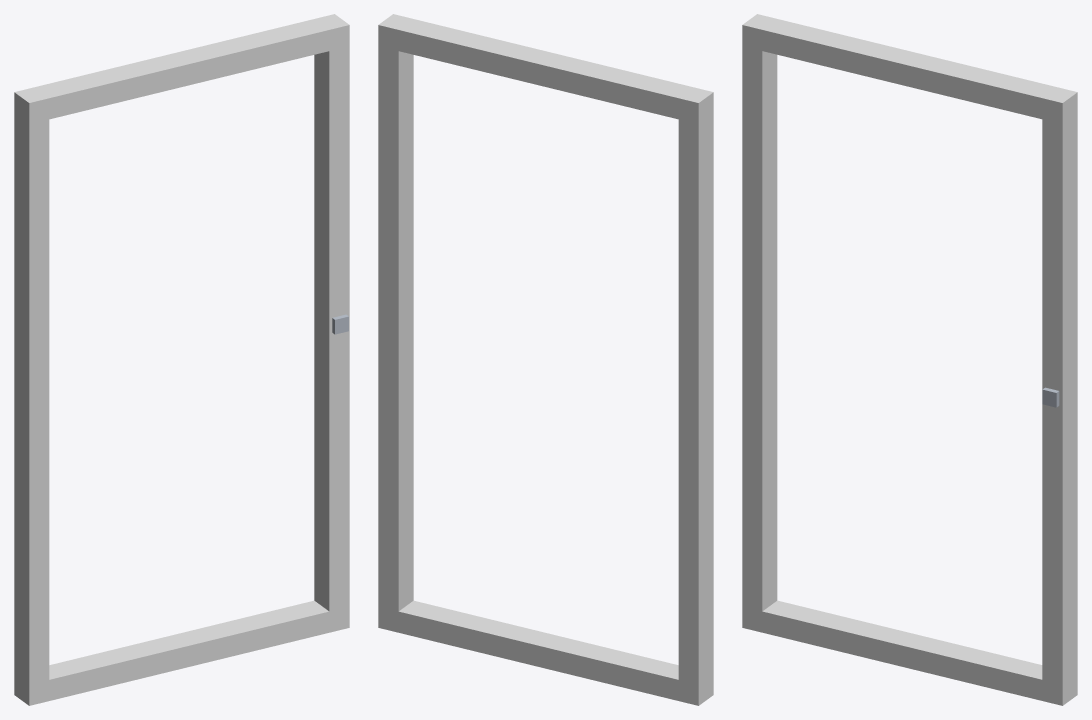
The model's file is Window5_03_3.fbx.
The picture shows the model from 3 angles, left to right: view 1: azimuth 30°, elevation 25°; view 2: azimuth 150°, elevation 25°; view 3: azimuth 330°, elevation 25°; orthographic projection.
Parts seen in each view (by area): view 1: Window5_03_3; view 2: Window5_03_3; view 3: Window5_03_3.
Part boxes in pixels (box(x1,y1,x2,y2)): Window5_03_3: box(14, 14, 349, 705); Window5_03_3: box(378, 14, 713, 705); Window5_03_3: box(742, 14, 1077, 705).
Bounding box in the file's own units: 63.23 × 114 × 6.08.
